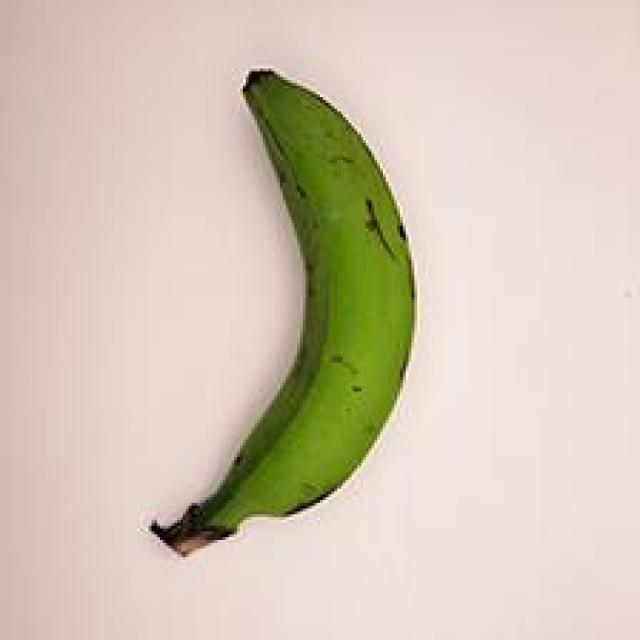Raw: (130, 55, 433, 582)
